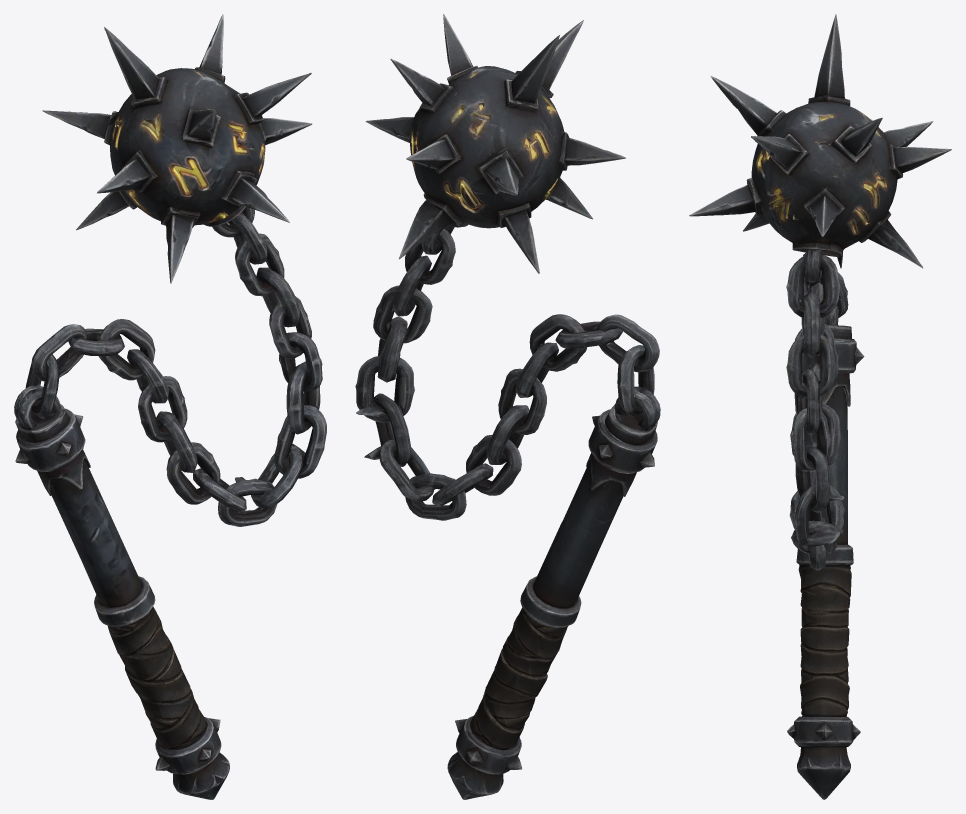
3 views of the same model, side by side, from view 1: azimuth 30°, elevation 25°; view 2: azimuth 150°, elevation 25°; view 3: azimuth 270°, elevation 25° (orthographic). The views are drawn at different scales.
Parts seen in each view (by area): view 1: mesh_node; view 2: mesh_node; view 3: mesh_node.
Boxes of the visible parts, left/top/right/bottom form: mesh_node: left=14, top=14, right=326, bottom=799; mesh_node: left=355, top=14, right=660, bottom=799; mesh_node: left=689, top=14, right=951, bottom=799.
Bounding box in the file's own units: 0.7529 × 1.9 × 0.6127.
1 material, 1 textured.
